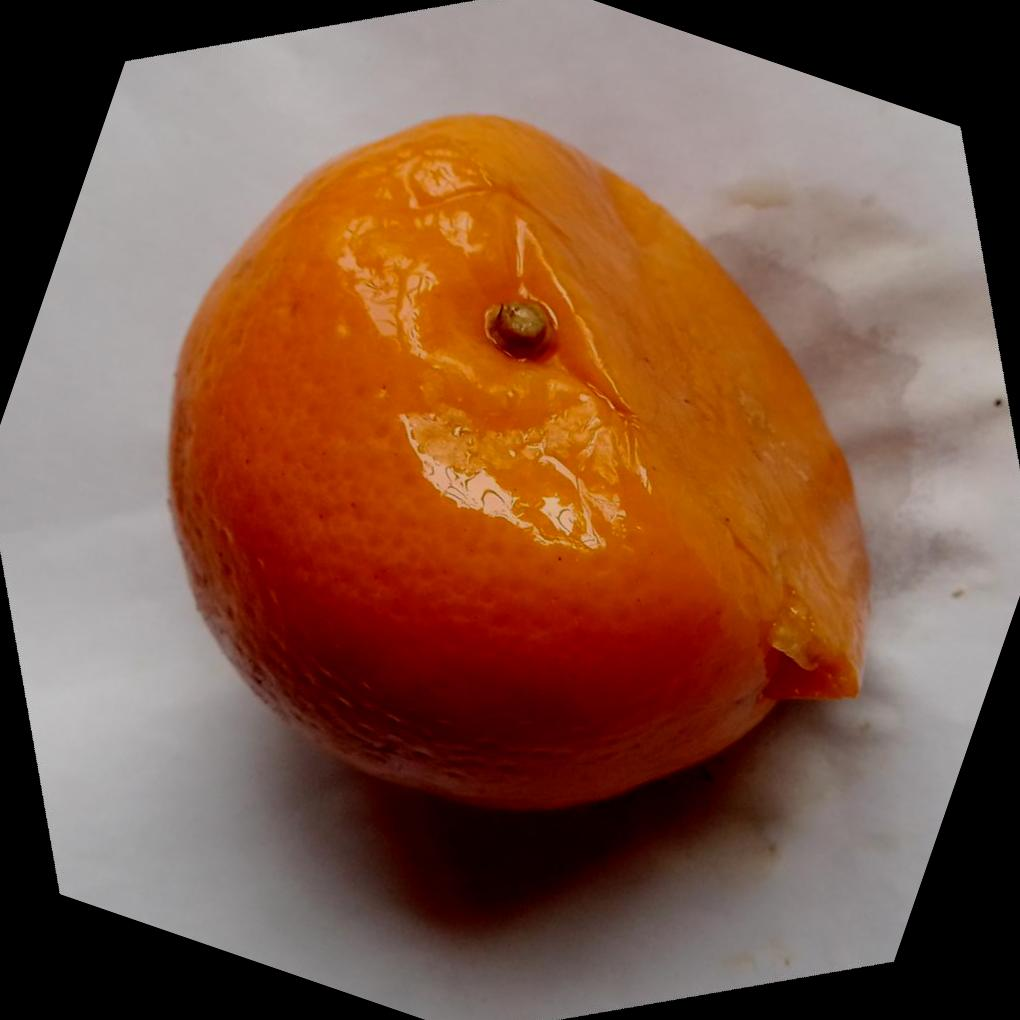FreshOrange: (168, 114, 876, 815)
